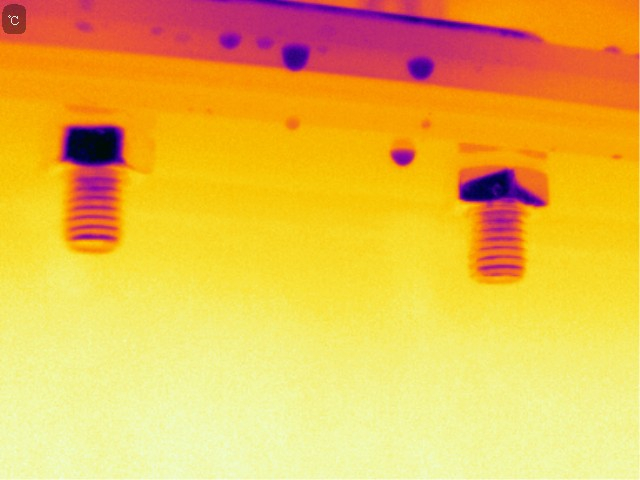Water: (378, 139, 426, 175), (275, 39, 319, 72), (401, 55, 444, 86), (217, 27, 247, 58)
